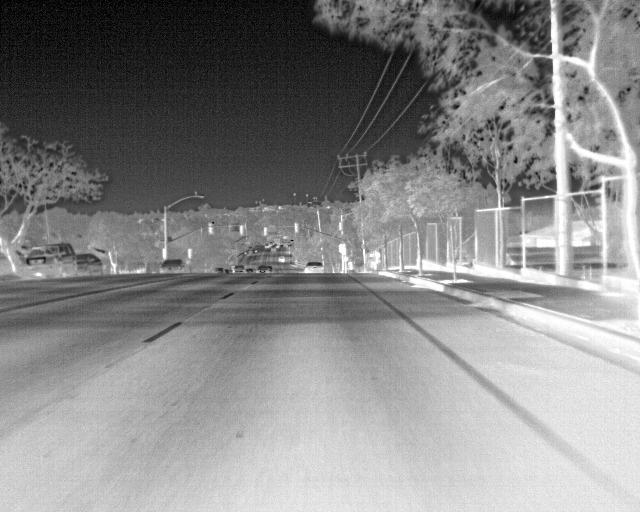car: (15, 237, 77, 287), (59, 238, 104, 279), (217, 262, 272, 285), (150, 253, 192, 279), (298, 259, 330, 277), (252, 262, 284, 279), (269, 251, 294, 268), (242, 247, 265, 259), (284, 239, 302, 254), (232, 265, 249, 278), (264, 239, 280, 251), (265, 243, 280, 255)
light: (180, 184, 215, 211)
trafficlight: (228, 220, 259, 243), (288, 219, 315, 239), (200, 220, 219, 241), (263, 223, 286, 239)
